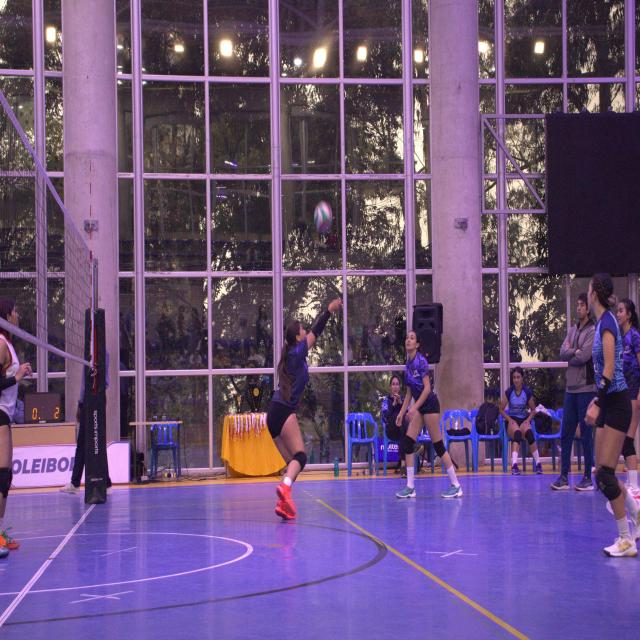volleyball: (314, 200, 332, 232)
